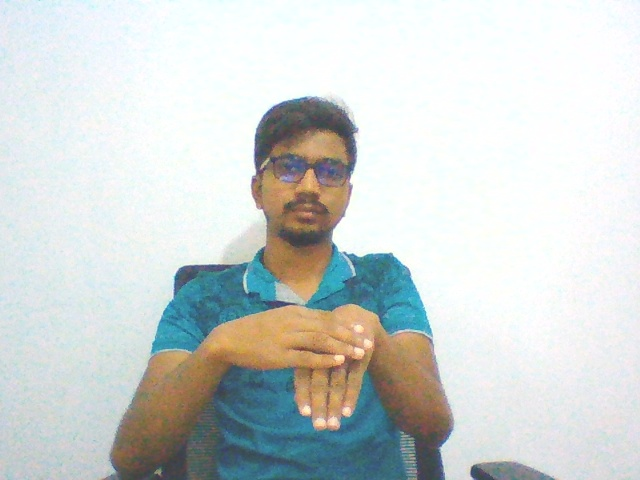pineapple: (203, 297, 384, 438)
